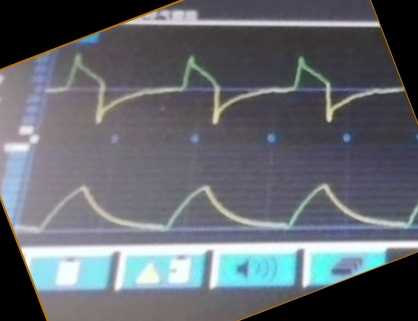Normal Flow: (49, 51, 400, 124)
Normal Volume: (20, 174, 417, 236)
